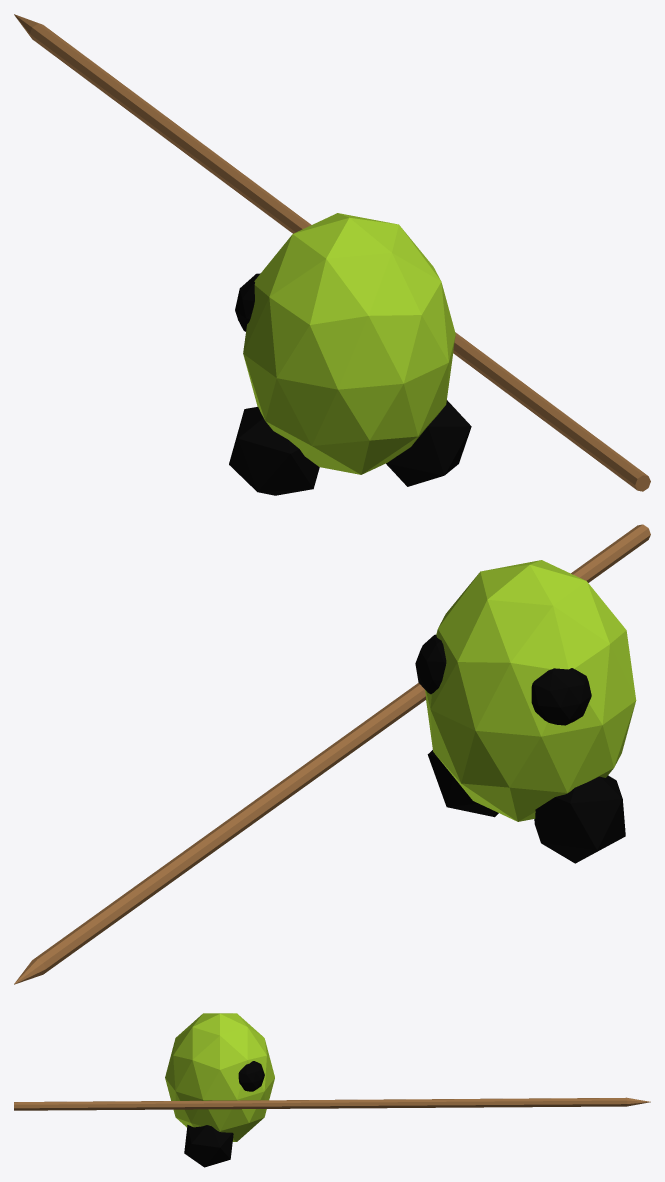
File: walk.f0010.glb
The picture shows the model from 3 angles, top to bottom: view 1: azimuth 30°, elevation 25°; view 2: azimuth 150°, elevation 25°; view 3: azimuth 270°, elevation 25°; orthographic projection. The views are drawn at different scales.
Visible parts, largest first — view 1: Body.001; view 2: Body.001; view 3: Body.001.
Part boxes in pixels (left/top/right/bottom): Body.001: left=14, top=14, right=650, bottom=495; Body.001: left=14, top=524, right=650, bottom=984; Body.001: left=14, top=1013, right=650, bottom=1167.
Bounding box in the file's own units: 2.17 × 2.78 × 11.56.
Materials: 1 (1 with a texture image).
